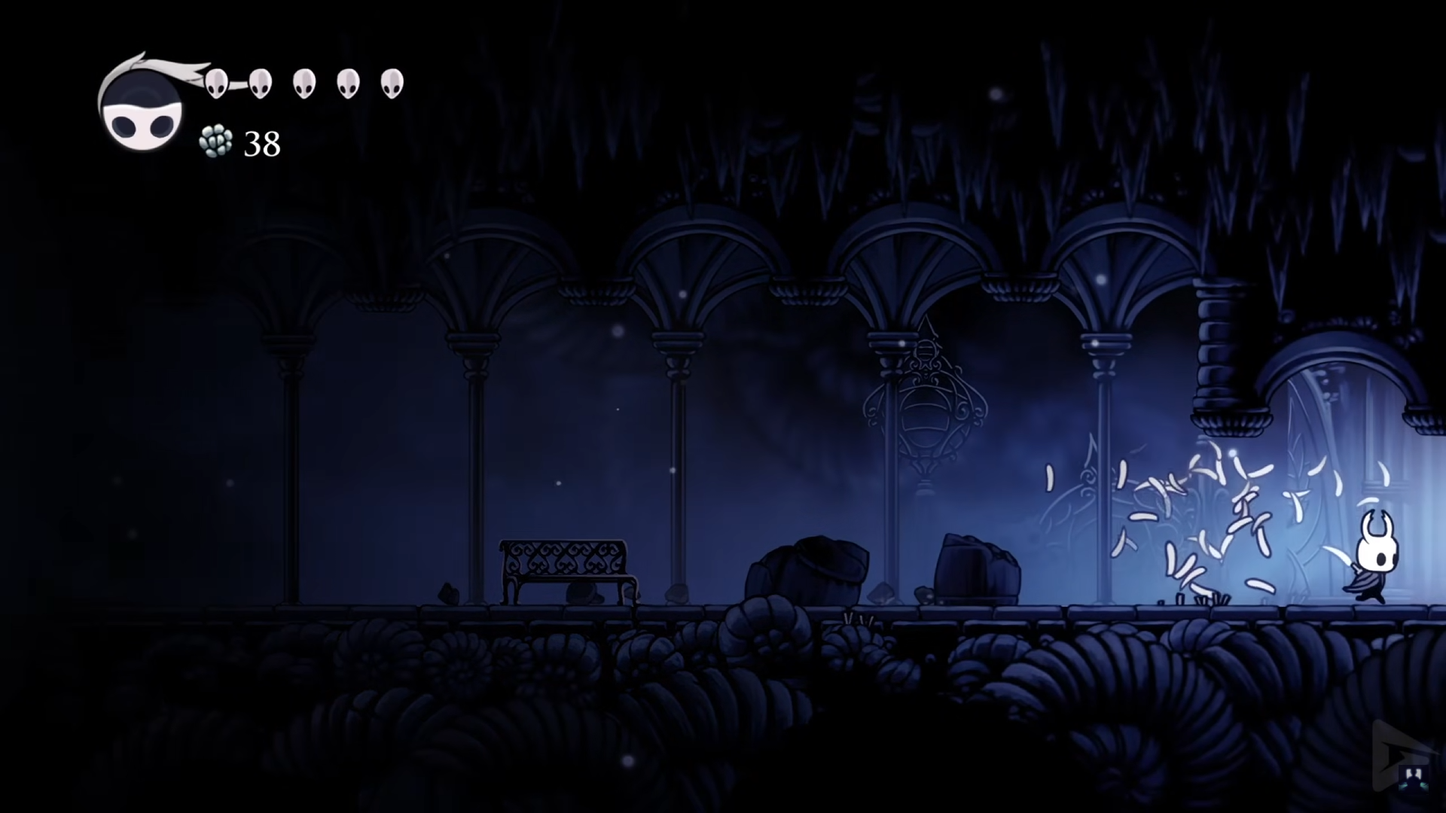HK: (1344, 507, 1405, 607)
